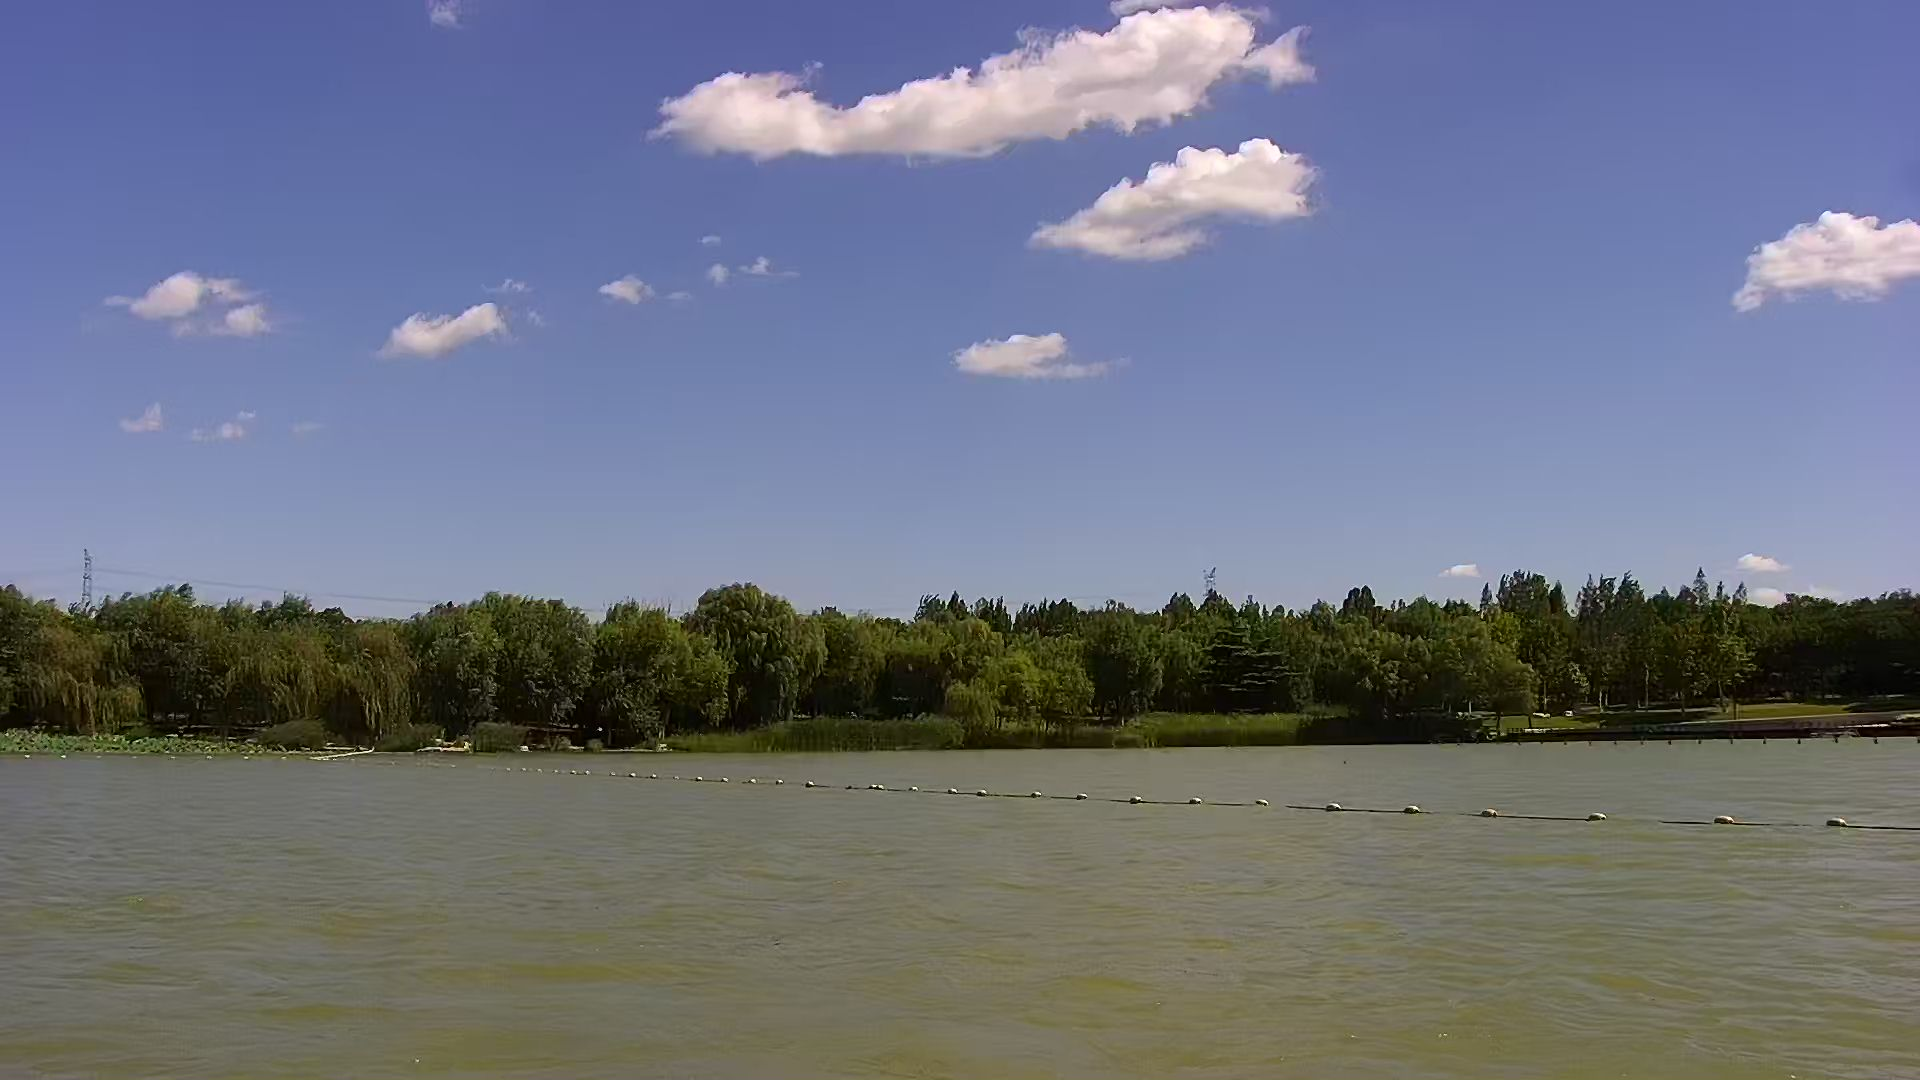ball: (1317, 785, 1353, 833), (1399, 790, 1437, 829), (1465, 794, 1511, 825), (1709, 796, 1742, 836), (1183, 782, 1216, 820), (1581, 799, 1618, 829), (1822, 802, 1857, 832), (1069, 782, 1097, 808), (1125, 787, 1149, 816)
